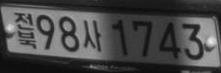1: (109, 18, 130, 57)
3: (181, 22, 204, 60)
4: (158, 20, 181, 59)
7: (131, 19, 153, 57)
8: (57, 15, 80, 52)
9: (36, 13, 55, 50)
사: (82, 19, 102, 52)
전북_V: (13, 11, 36, 49)
